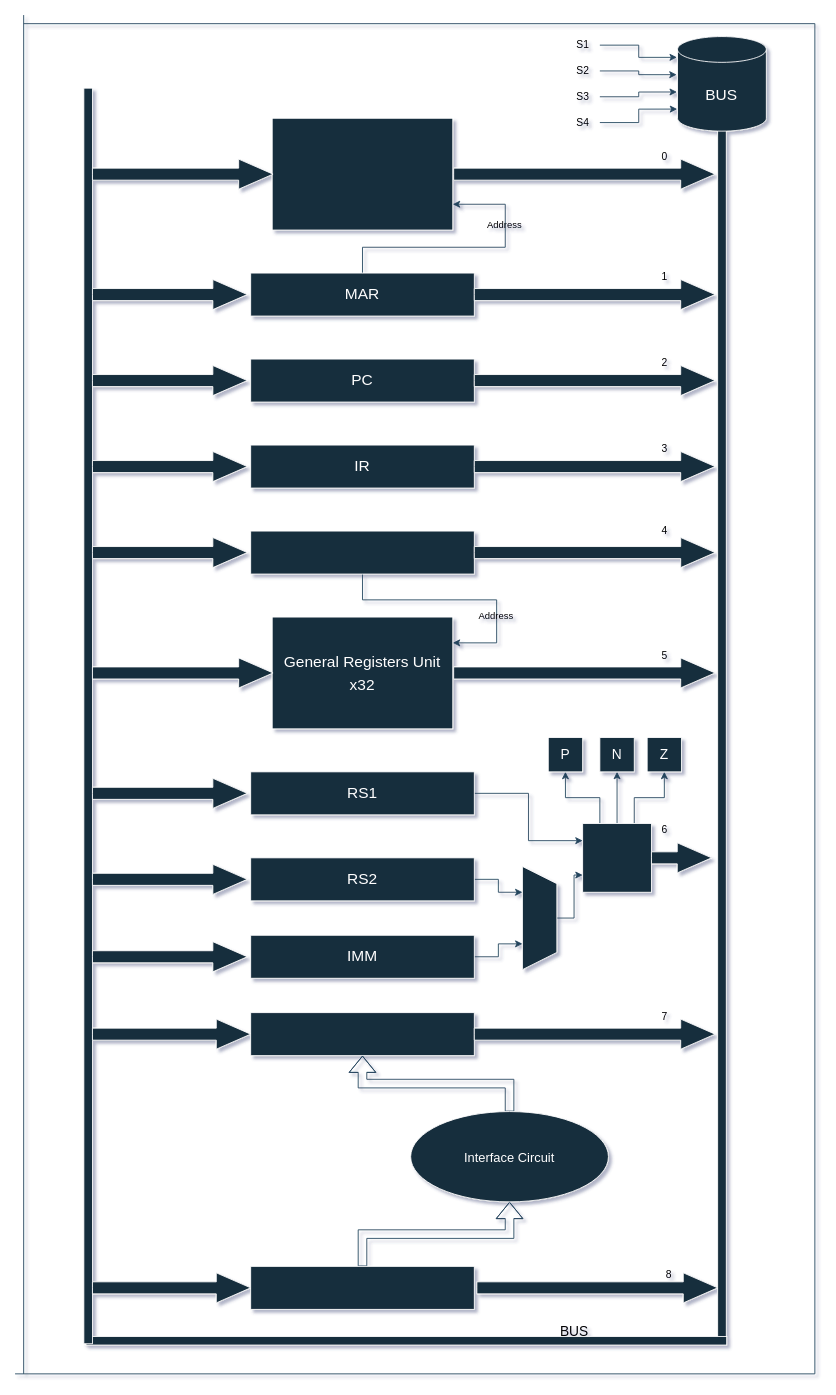
Image size: 836x1395. Some labels were removed from this diagram. Each missing label, with the centre of its shape:
ALU: (x=616, y=857)
INPR: (x=362, y=1034)
MDR: (x=362, y=552)
Memory unit 65535 * 8: (x=362, y=173)
OUTR: (x=362, y=1287)
